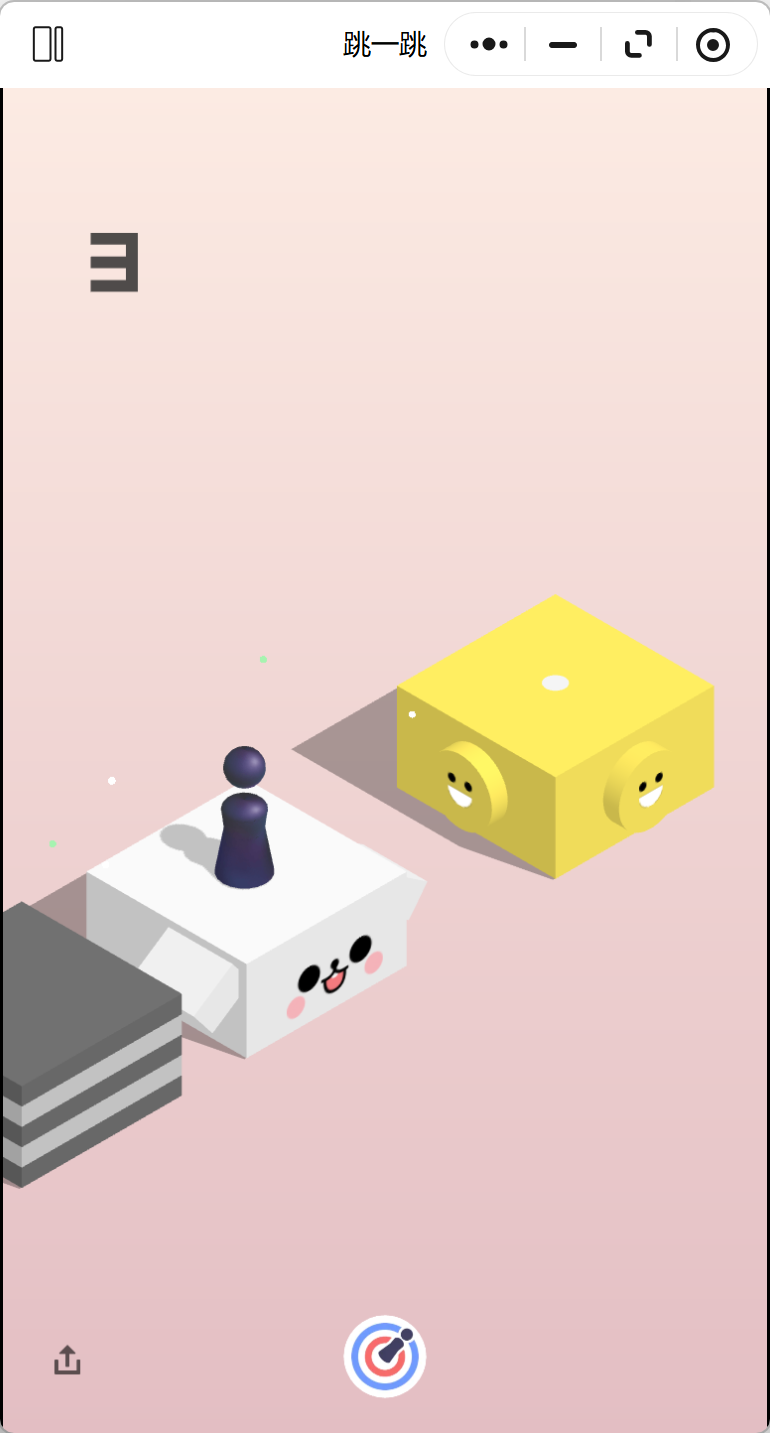piece: (216, 741, 278, 893)
platform: (396, 592, 720, 878)
